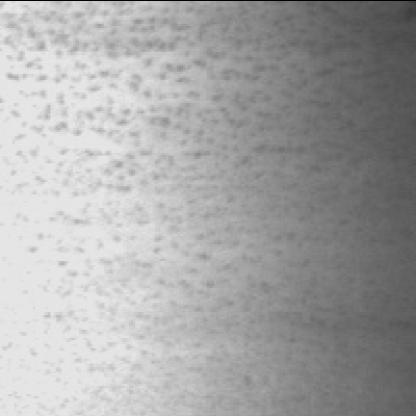pitted_surface: (12, 10, 414, 396)
